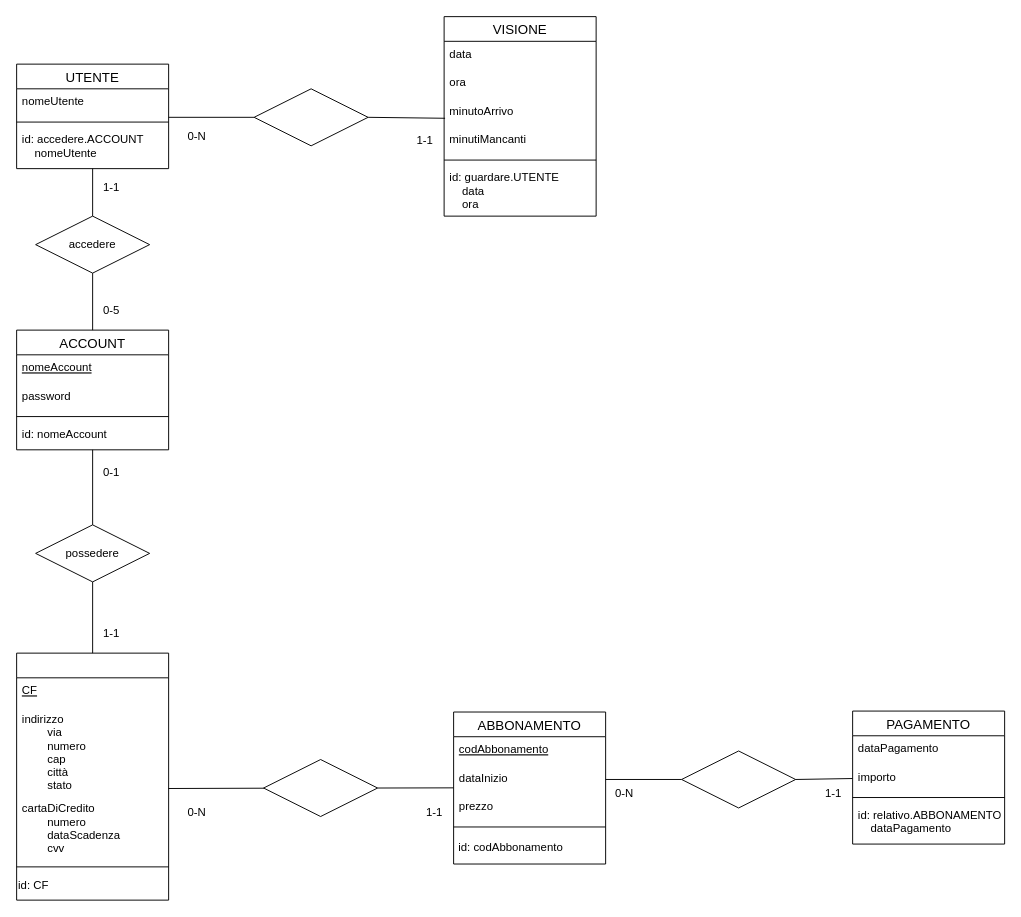
Some shapes in this 1021 by 917 pixel diagram are drawn without their labels. The box of each missing label's shape, as (x1, y1, x2, y2) in pixels:
guardare: (253, 88, 368, 146)
relativo: (681, 750, 796, 808)
sottoscrivere: (263, 759, 378, 817)
TITOLARE_ACCOUNT: (16, 652, 169, 900)
